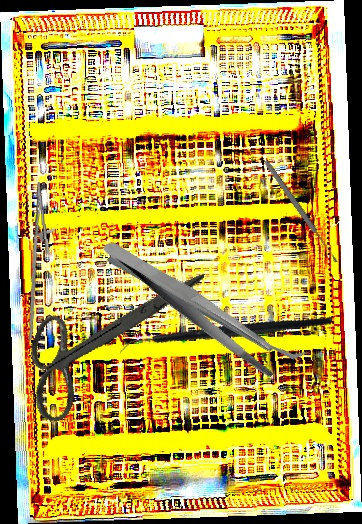Chopper: (104, 195, 311, 419), (118, 267, 334, 405)
Dressing Forceps: (101, 203, 287, 409)
Iris Scissors: (6, 221, 205, 455)
Needle Holder: (17, 180, 64, 341)
Surgical Spoon: (262, 158, 340, 265)
